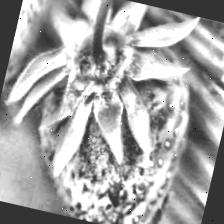Gray Mold: (15, 23, 203, 224)
